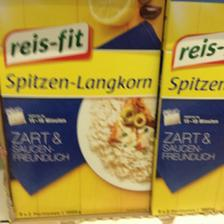Reis: (0, 0, 164, 216), (149, 0, 223, 216)
